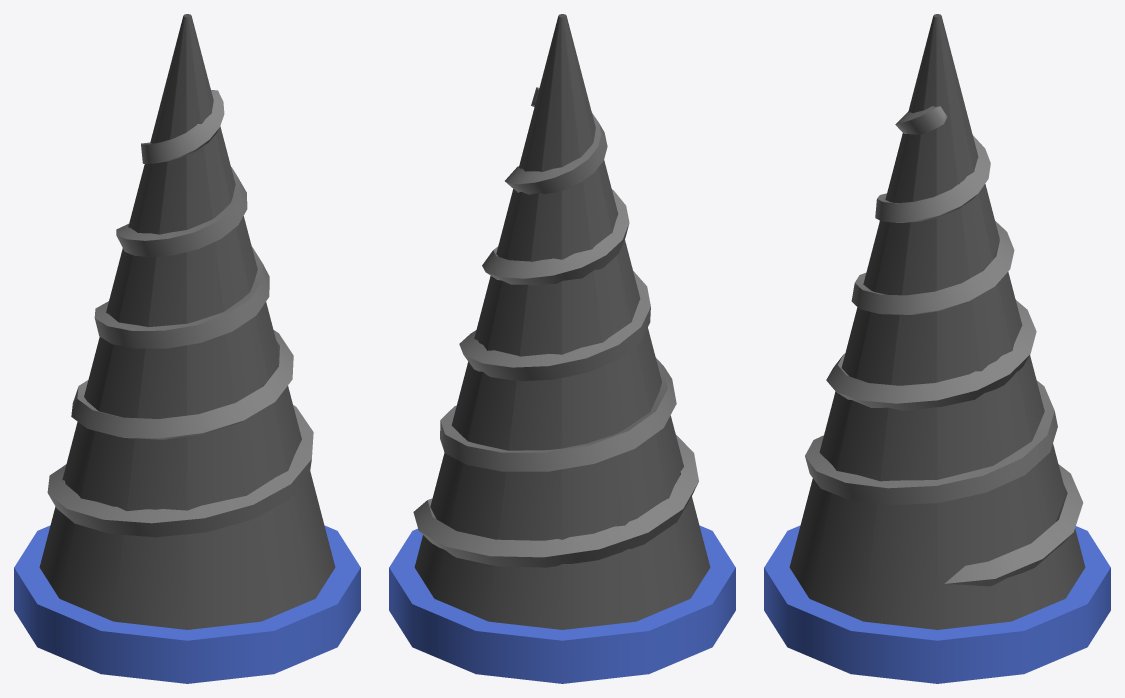
Rendered from drill.fbx.
3 renders of one model, left to right at view 1: azimuth 30°, elevation 25°; view 2: azimuth 150°, elevation 25°; view 3: azimuth 270°, elevation 25°, orthographic.
Parts seen in each view (by area): view 1: drill; view 2: drill; view 3: drill.
Boxes of the visible parts, x1,y1,x2,y2 form: drill: [14, 14, 360, 683]; drill: [389, 14, 735, 683]; drill: [764, 14, 1110, 683].
Bounding box in the file's own units: 75.37 × 143 × 75.37.
